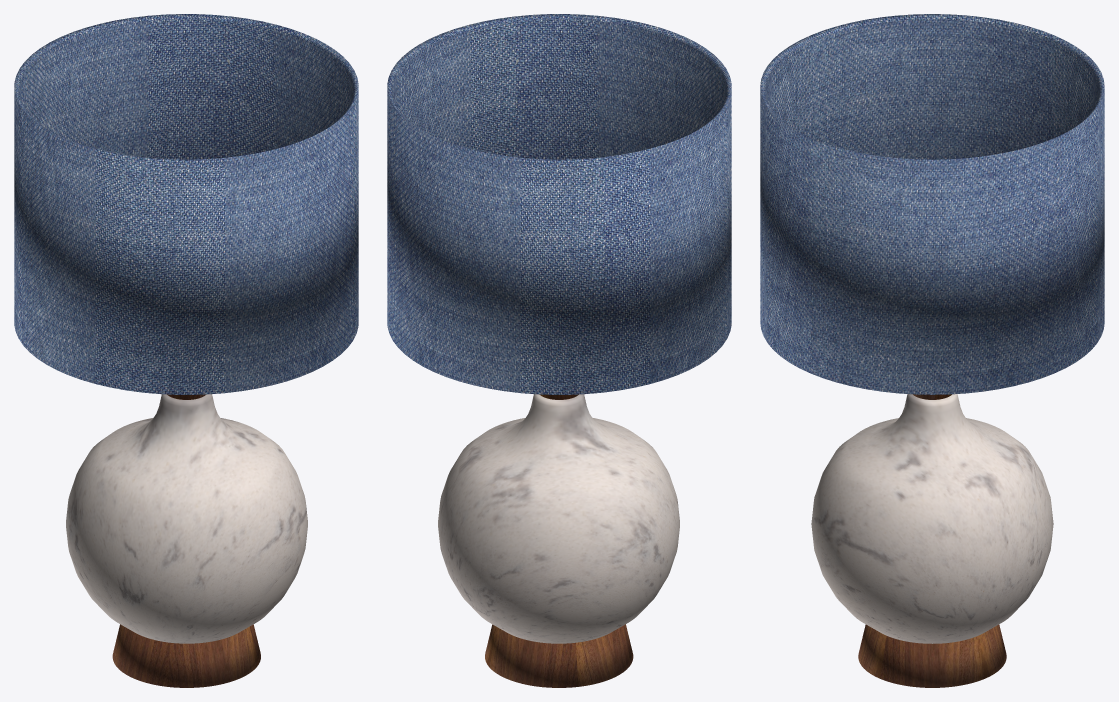
File: lamp.obj
The picture shows the model from 3 angles, left to right: view 1: azimuth 30°, elevation 25°; view 2: azimuth 150°, elevation 25°; view 3: azimuth 270°, elevation 25°; orthographic projection.
Visible parts, largest first — view 1: Cylinder.003_Cylinder.006, Sphere_Sphere.001, Cylinder.001; view 2: Cylinder.003_Cylinder.006, Sphere_Sphere.001, Cylinder.001; view 3: Cylinder.003_Cylinder.006, Sphere_Sphere.001, Cylinder.001.
Boxes of the visible parts, x1=… form: Cylinder.003_Cylinder.006: x1=14, y1=14, x2=358, y2=394; Sphere_Sphere.001: x1=66, y1=394, x2=307, y2=643; Cylinder.001: x1=112, y1=624, x2=260, y2=687; Cylinder.003_Cylinder.006: x1=387, y1=14, x2=731, y2=394; Sphere_Sphere.001: x1=438, y1=394, x2=679, y2=643; Cylinder.001: x1=485, y1=624, x2=633, y2=687; Cylinder.003_Cylinder.006: x1=760, y1=14, x2=1104, y2=394; Sphere_Sphere.001: x1=811, y1=394, x2=1053, y2=643; Cylinder.001: x1=858, y1=624, x2=1006, y2=687.
Size of the model in its own units: 3.74 by 6.83 by 3.74.
